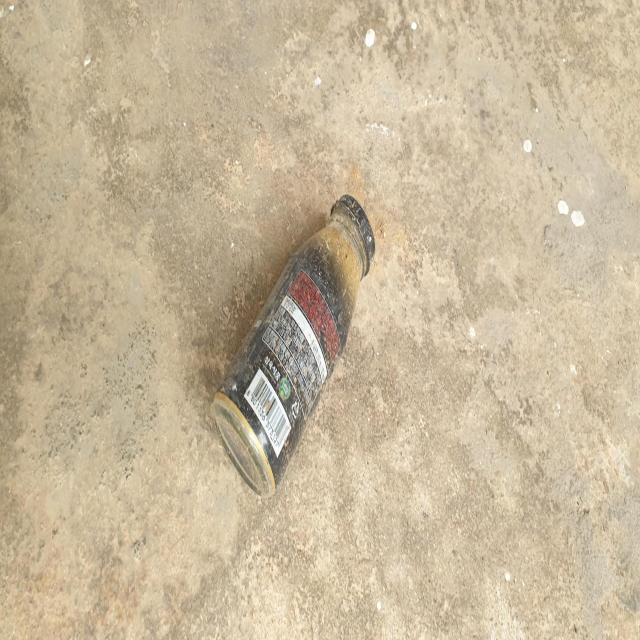glass: (212, 193, 376, 495)
